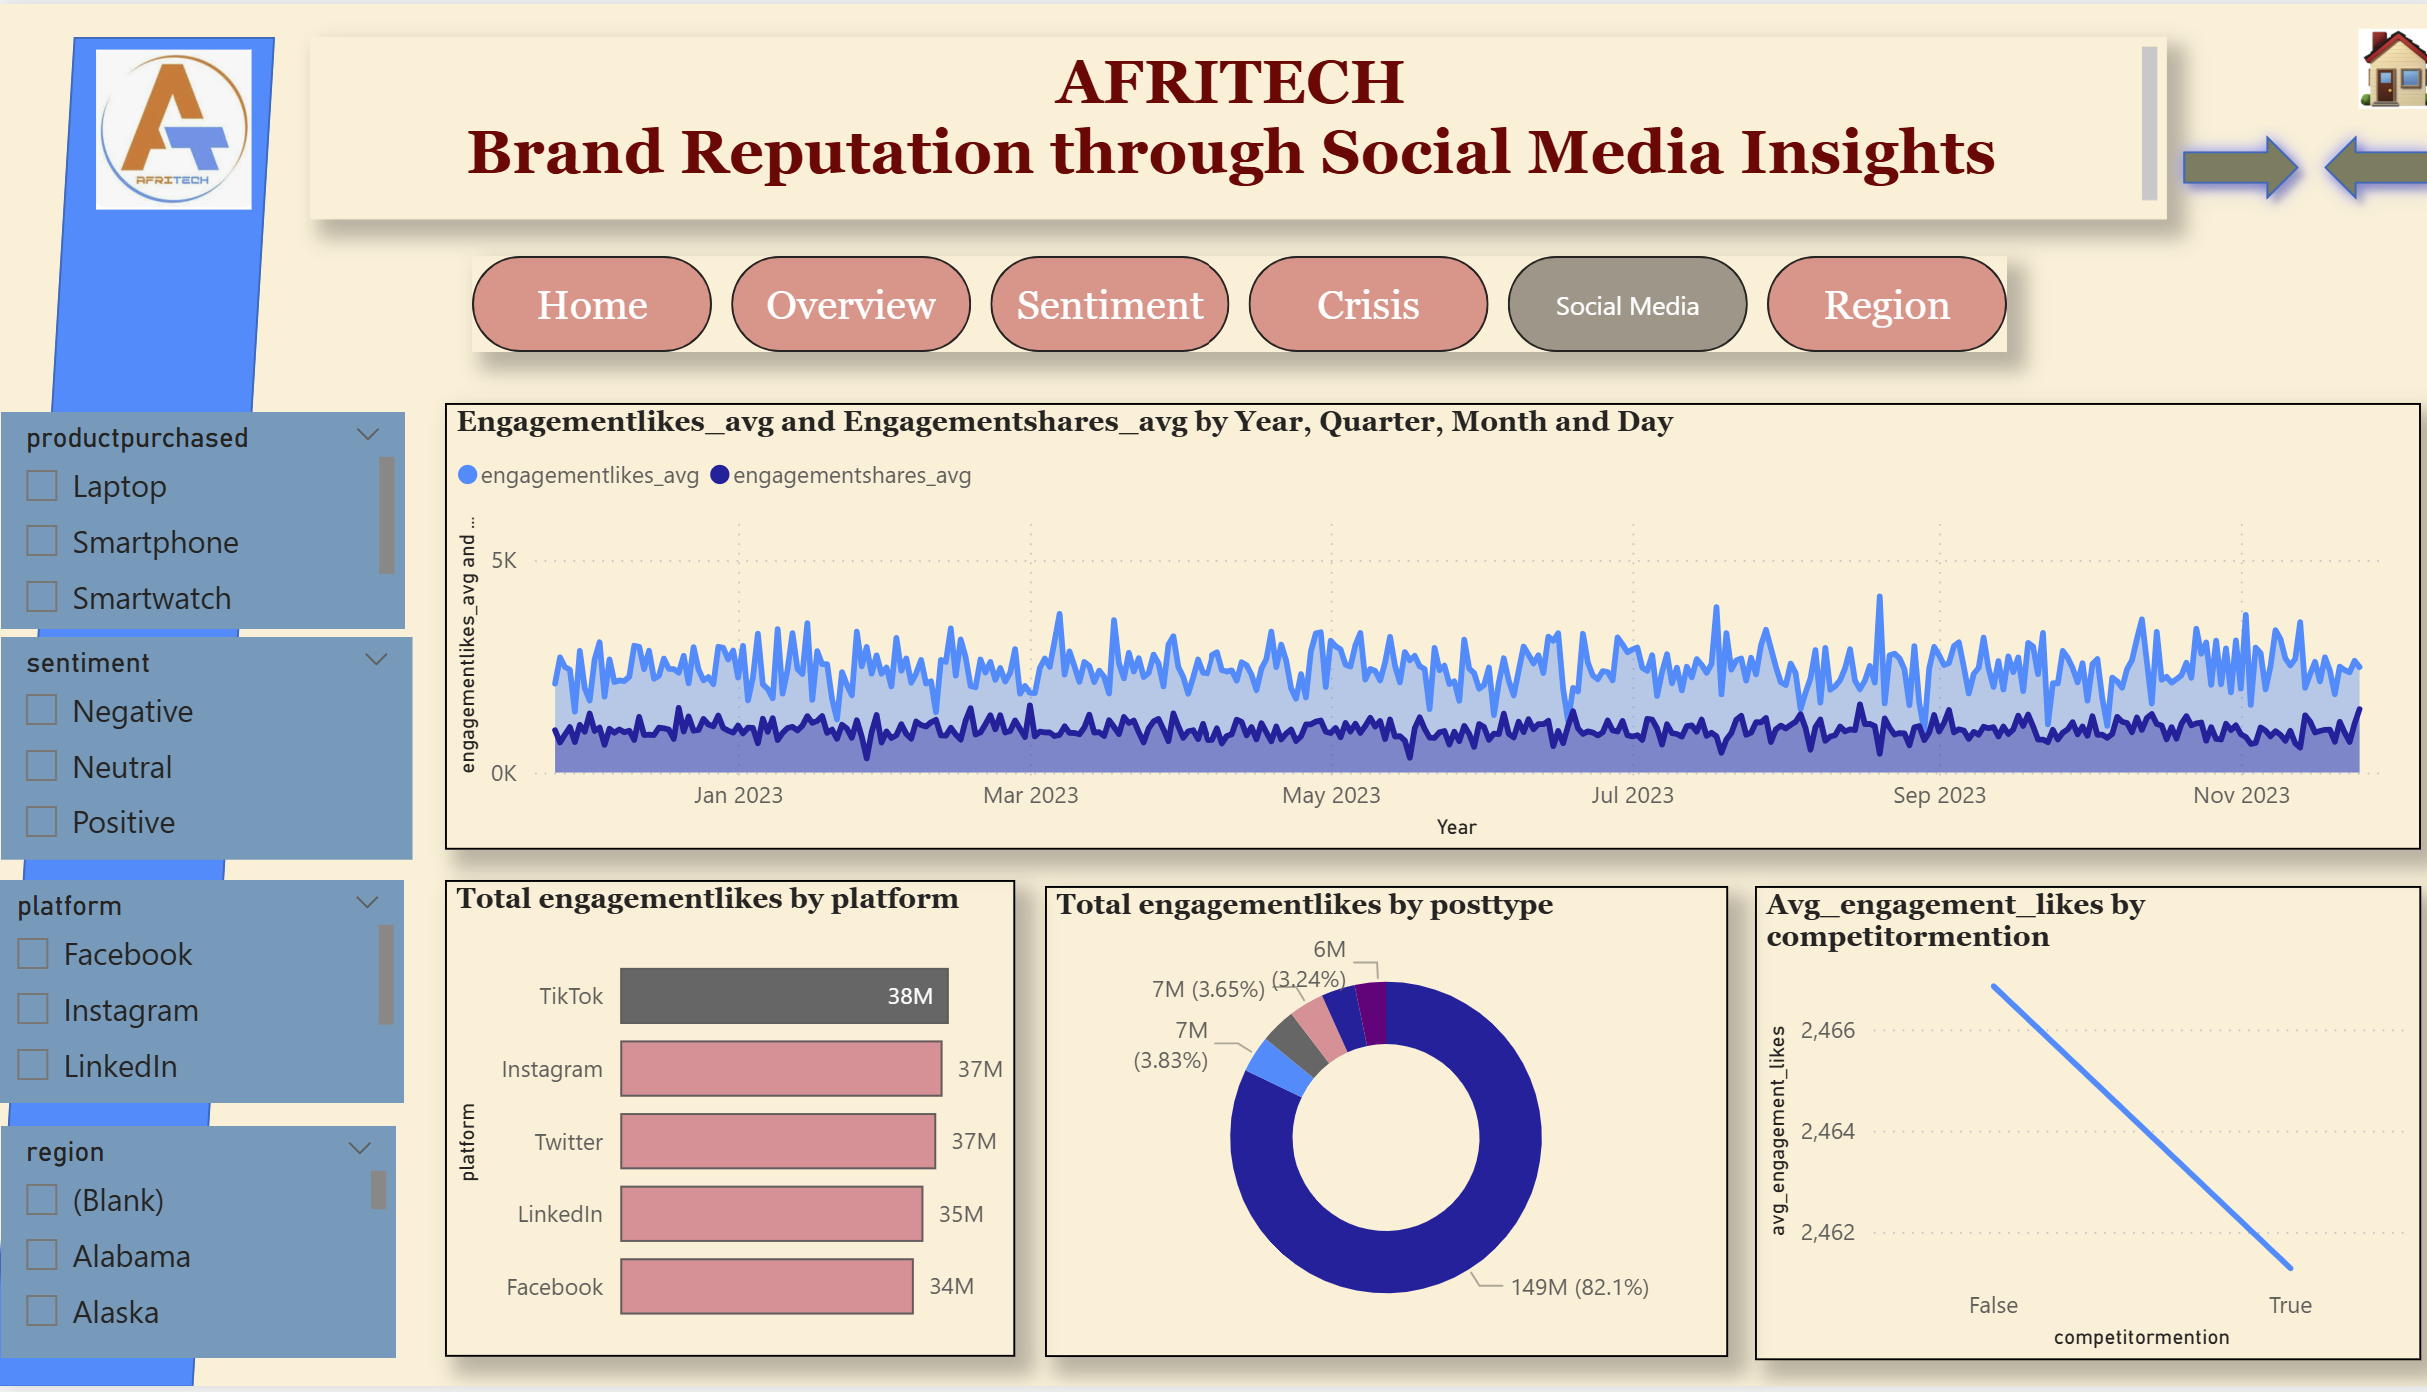

This screenshot's page, from the dashboard's own definition file:
{"tool":"powerbi","page":{"name":"Social Media","canvas":[1280,720],"ordinal":4},"visuals":[{"type":"shape","box":[0,16.9,147.5,703.4],"z":0,"group":"g1"},{"type":"pageNavigator","box":[250,131.2,800,50],"z":1000},{"type":"textbox","box":[166.1,16.9,967.8,94.9],"z":3000},{"type":"group","id":"g1","title":"Group 1","box":[0,16.9,147.5,703.4],"z":4000},{"type":"image","box":[42.4,18.6,105.1,93.2],"z":5000,"group":"g1"},{"type":"group","id":"g2","title":"Group 2","box":[0,213,218.8,492.8],"z":5000},{"type":"lineChart","title":"Avg_engagement_likes by competitormention","fields":{"Y":["public socialmedia.avg_engagement_likes"],"Category":["public socialmedia.competitormention"]},"box":[918.8,459.4,346.9,246.9],"z":5001},{"type":"clusteredBarChart","title":"Total engagementlikes by platform","fields":{"Y":["Sum(public socialmedia.engagementlikes)"],"Category":["public platform.platform"]},"box":[235.9,456.2,296.9,248.4],"z":5002},{"type":"shape","box":[1132.8,59.4,78.1,51.6],"z":5003},{"type":"shape","box":[1206.2,59.4,73.4,51.6],"z":5004},{"type":"areaChart","title":"Engagementlikes_avg and Engagementshares_avg by Year, Quarter, Month and Day","fields":{"Category":["public socialmedia.interactiondate.Variation.Date Hierarchy.Year","public socialmedia.interactiondate.Variation.Date Hierarchy.Quarter","public socialmedia.interactiondate.Variation.Date Hierarchy.Month","public socialmedia.interactiondate.Variation.Date Hierarchy.Day"],"Y":["public socialmedia.engagementlikes_avg","public socialmedia.engagementshares_avg"]},"box":[235.9,207.8,1029.7,232.8],"z":5005},{"type":"donutChart","title":"Total engagementlikes by posttype","fields":{"Category":["public crisisresponse.posttype"],"Y":["Sum(public socialmedia.engagementlikes)"]},"box":[548.4,459.4,356.2,245.3],"z":5006},{"type":"image","box":[1228.1,1.6,51.6,64.1],"z":5007},{"type":"slicer","fields":{"Values":["public products.productpurchased"]},"box":[4.3,213,210.1,113],"z":8000,"group":"g2"},{"type":"slicer","fields":{"Values":["public customers.region"]},"box":[4.3,585.5,205.8,120.3],"z":9000,"group":"g2"},{"type":"slicer","fields":{"Values":["public platform.platform"]},"box":[0,456.5,214.5,115.9],"z":10000,"group":"g2"},{"type":"slicer","fields":{"Values":["public sentiment.sentiment"]},"box":[4.3,330.4,214.5,115.9],"z":11000,"group":"g2"}]}

Visuals, with their boxes on the page's 1280x720 design canvas (x1, y1, x2, y2). These are canvas units, not pixel positions in the 2427x1392 screenshot, which may show the page scaled, cropped or inside an application window:
shape: <box>0,17,148,720</box>
pageNavigator: <box>250,131,1050,181</box>
textbox: <box>166,17,1134,112</box>
"Group 1" group: <box>0,17,148,720</box>
image: <box>42,19,148,112</box>
"Group 2" group: <box>0,213,219,706</box>
"Avg_engagement_likes by competitormention" lineChart: <box>919,459,1266,706</box>
"Total engagementlikes by platform" clusteredBarChart: <box>236,456,533,705</box>
shape: <box>1133,59,1211,111</box>
shape: <box>1206,59,1280,111</box>
"Engagementlikes_avg and Engagementshares_avg by Year, Quarter, Month and Day" areaChart: <box>236,208,1266,441</box>
"Total engagementlikes by posttype" donutChart: <box>548,459,905,705</box>
image: <box>1228,2,1280,66</box>
slicer - public products.productpurchased: <box>4,213,214,326</box>
slicer - public customers.region: <box>4,586,210,706</box>
slicer - public platform.platform: <box>0,456,214,572</box>
slicer - public sentiment.sentiment: <box>4,330,219,446</box>
